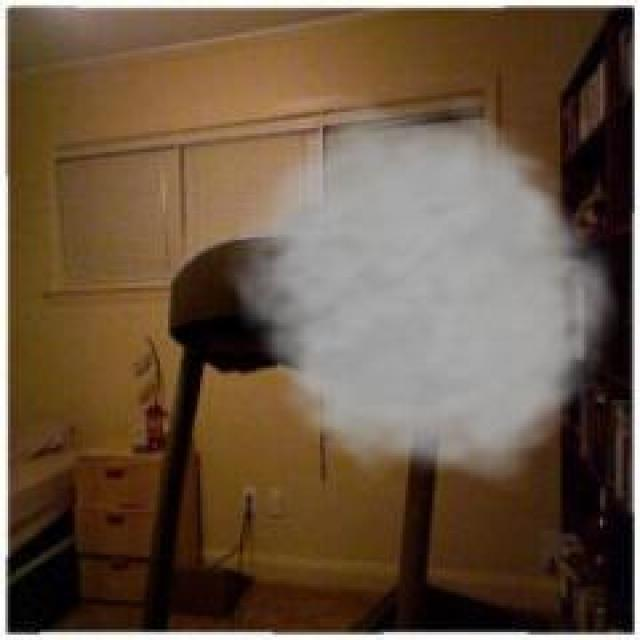Smoke: (224, 110, 616, 478)
